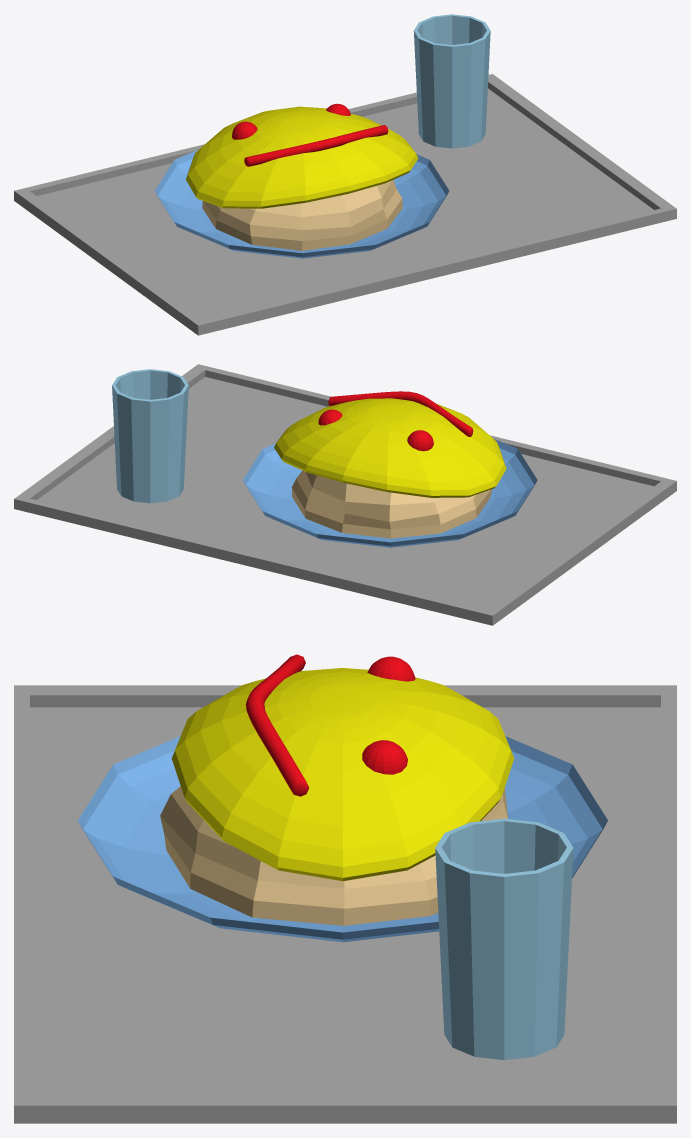
The model's file is omelette.glb.
The picture shows the model from 3 angles, top to bottom: view 1: azimuth 30°, elevation 25°; view 2: azimuth 150°, elevation 25°; view 3: azimuth 270°, elevation 25°; orthographic projection. The views are drawn at different scales.
Visible parts, largest first — view 1: tray, omelette, glass, rice, plate, sauce; view 2: tray, omelette, glass, rice, plate, sauce; view 3: tray, omelette, glass, plate, rice, sauce.
Boxes of the visible parts, bbox=[...] form: tray: bbox=[14, 74, 676, 335]; omelette: bbox=[186, 106, 418, 208]; glass: bbox=[414, 14, 490, 148]; rice: bbox=[202, 180, 402, 250]; plate: bbox=[155, 149, 449, 258]; sauce: bbox=[232, 103, 388, 166]; tray: bbox=[14, 364, 676, 625]; omelette: bbox=[274, 398, 506, 497]; glass: bbox=[112, 369, 188, 503]; rice: bbox=[291, 471, 491, 538]; plate: bbox=[243, 439, 537, 547]; sauce: bbox=[318, 391, 473, 451]; tray: bbox=[14, 685, 676, 1123]; omelette: bbox=[171, 668, 514, 881]; glass: bbox=[435, 818, 573, 1059]; plate: bbox=[78, 736, 607, 942]; rice: bbox=[160, 786, 507, 925]; sauce: bbox=[245, 654, 415, 796].
Bounding box in the file's own units: 1.5 × 0.3302 × 1.
